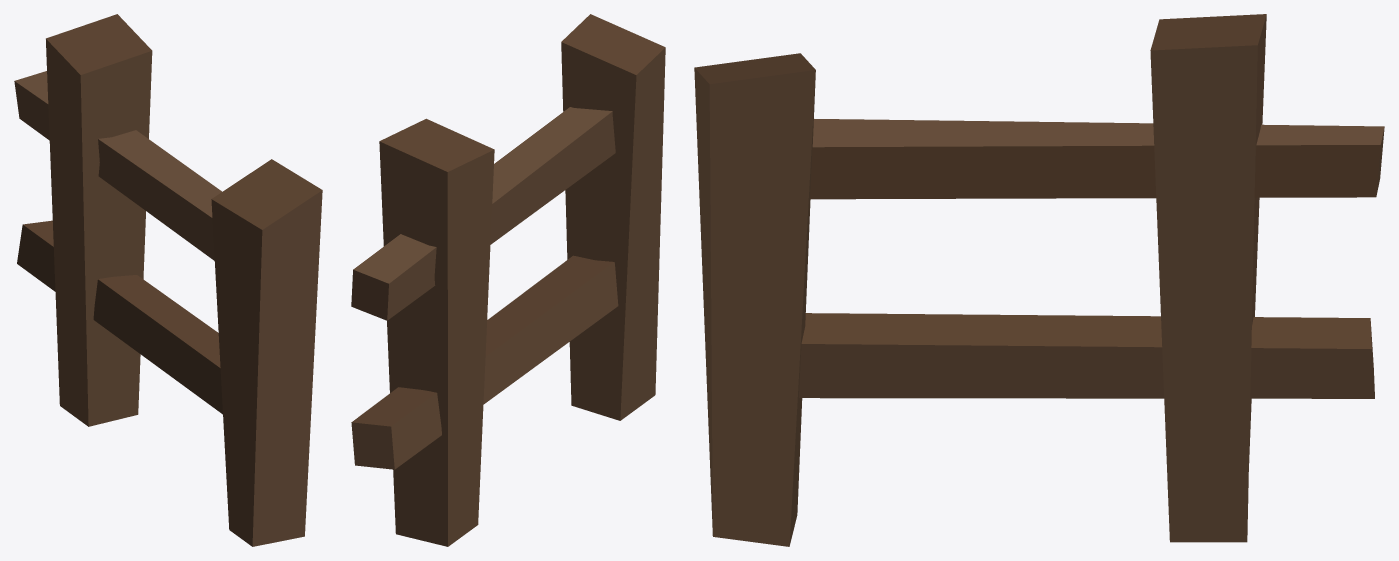
File: Barrière.fbx
3 views of the same model, side by side, from view 1: azimuth 30°, elevation 25°; view 2: azimuth 150°, elevation 25°; view 3: azimuth 270°, elevation 25° (orthographic). The views are drawn at different scales.
Parts seen in each view (by area): view 1: Cube.004, Cube.003, Cube.006, Cube.005; view 2: Cube.003, Cube.004, Cube.006, Cube.005; view 3: Cube.003, Cube.004, Cube.006, Cube.005.
Boxes of the visible parts, left/top/right/bottom form: Cube.004: left=211, top=159, right=322, bottom=546; Cube.003: left=46, top=14, right=152, bottom=426; Cube.006: left=17, top=220, right=222, bottom=414; Cube.005: left=14, top=71, right=221, bottom=260; Cube.003: left=379, top=118, right=494, bottom=546; Cube.004: left=561, top=14, right=665, bottom=420; Cube.006: left=351, top=255, right=618, bottom=469; Cube.005: left=351, top=107, right=615, bottom=320; Cube.003: left=1150, top=14, right=1266, bottom=542; Cube.004: left=694, top=53, right=815, bottom=546; Cube.006: left=799, top=313, right=1374, bottom=398; Cube.005: left=810, top=119, right=1384, bottom=199.
Size of the model in its own units: 36.05 by 168 by 206.
